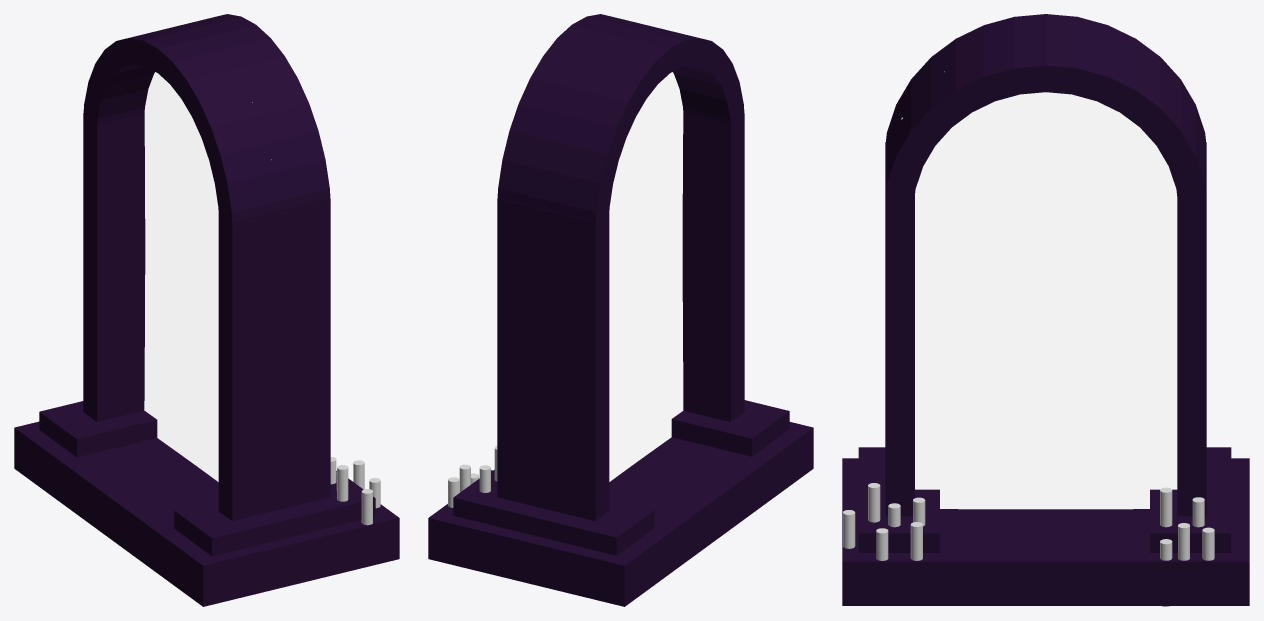
Rendered from portal.glb.
3 renders of one model, left to right at view 1: azimuth 30°, elevation 25°; view 2: azimuth 150°, elevation 25°; view 3: azimuth 270°, elevation 25°, orthographic. The views are drawn at different scales.
Visible parts, largest first — view 1: portal, Plane; view 2: portal, Plane; view 3: Plane, portal.
Boxes of the visible parts, x1,y1,x2,y2 form: portal: (14,14,399,606); Plane: (144,72,271,481); portal: (428,14,813,606); Plane: (609,72,683,481); Plane: (901,71,1177,509); portal: (842,14,1249,605).
Size of the model in its own units: 1.2 by 2.8 by 2.
